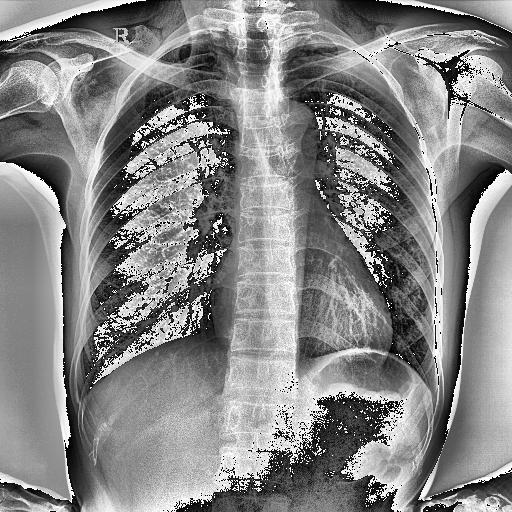11- Pleural thickening: (260, 15, 372, 72), (293, 38, 350, 62), (287, 31, 341, 55), (182, 25, 228, 45)
6- Infiltration: (401, 130, 422, 178)
8- Nodule-Mass: (390, 152, 430, 184)
